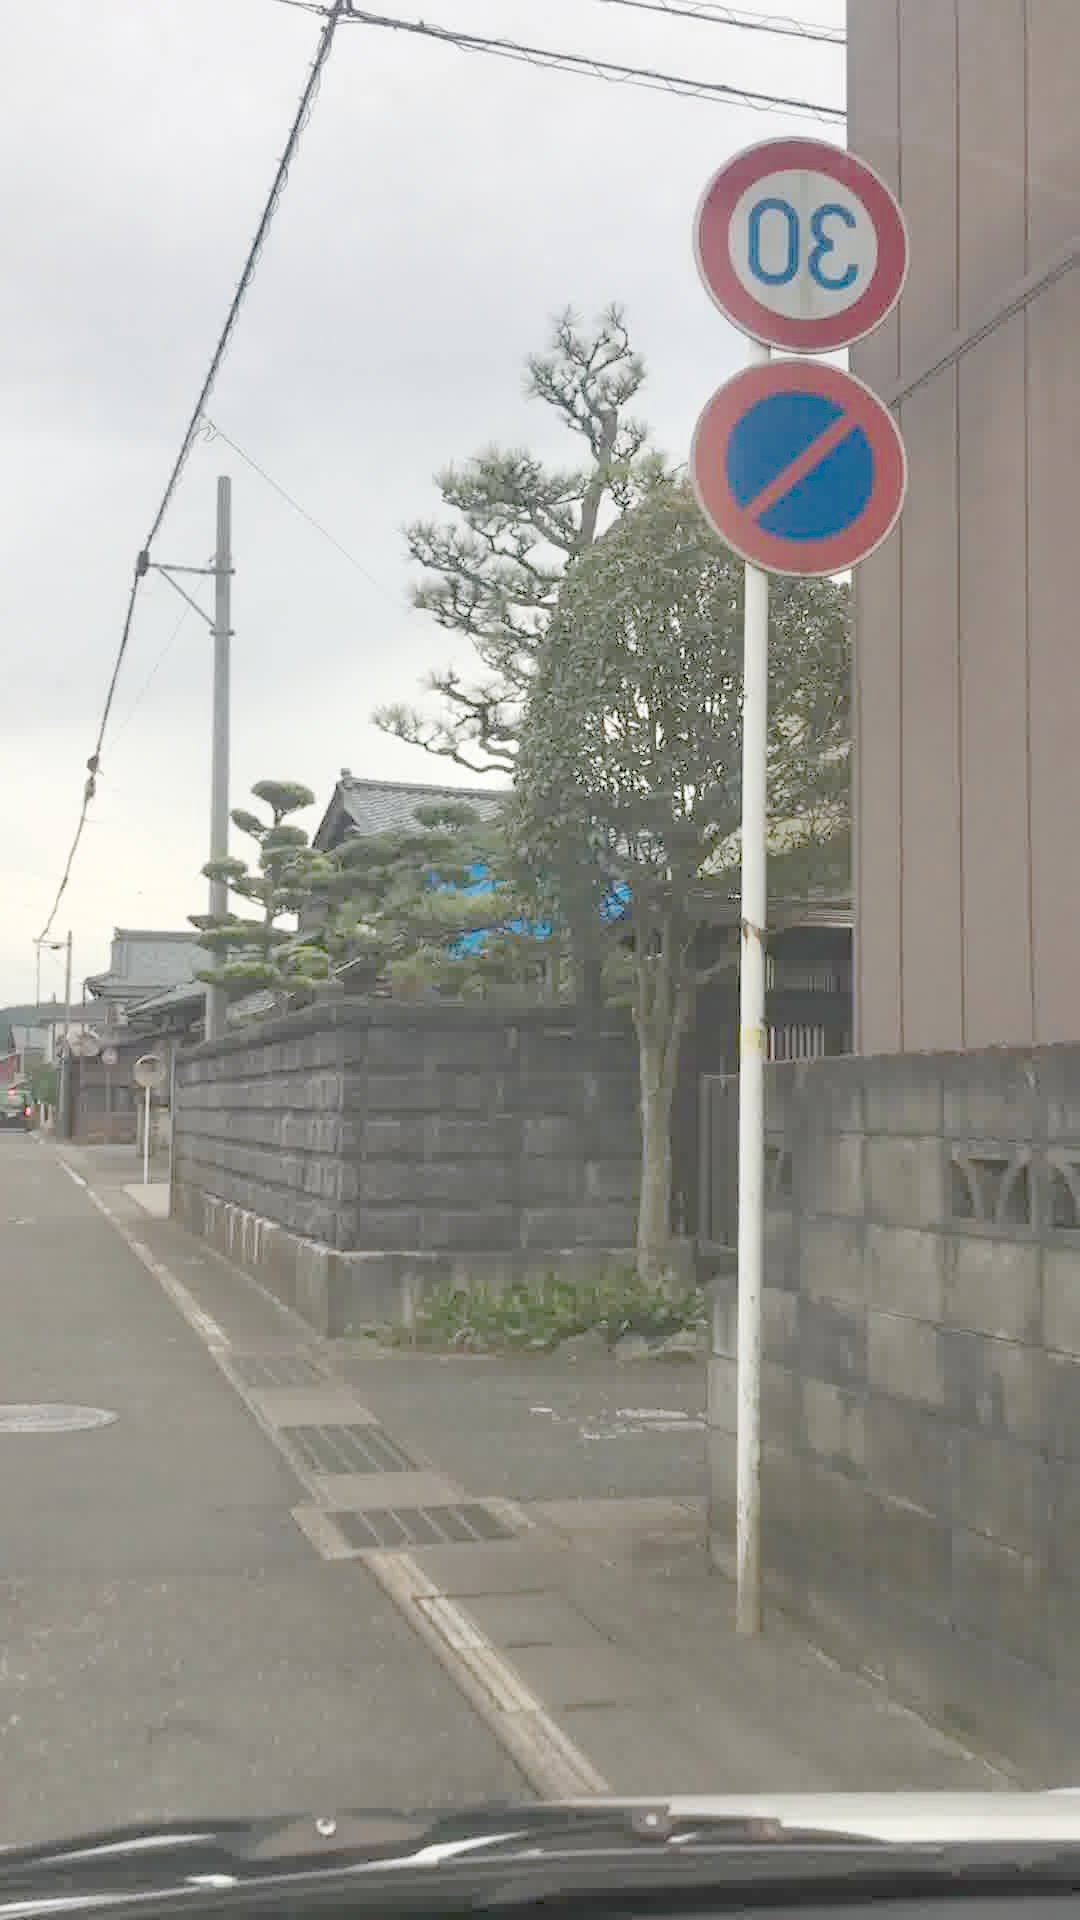Prohibition_sign: (692, 336, 944, 592)
Speed_sign: (705, 138, 906, 353)
